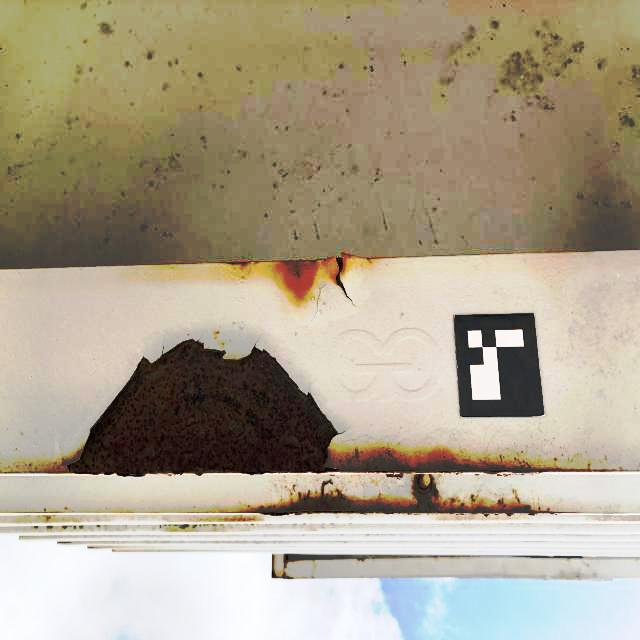Corrosion: (67, 338, 339, 476), (263, 475, 534, 515), (224, 256, 372, 302), (333, 457, 548, 475), (272, 554, 295, 579), (198, 515, 264, 523)
